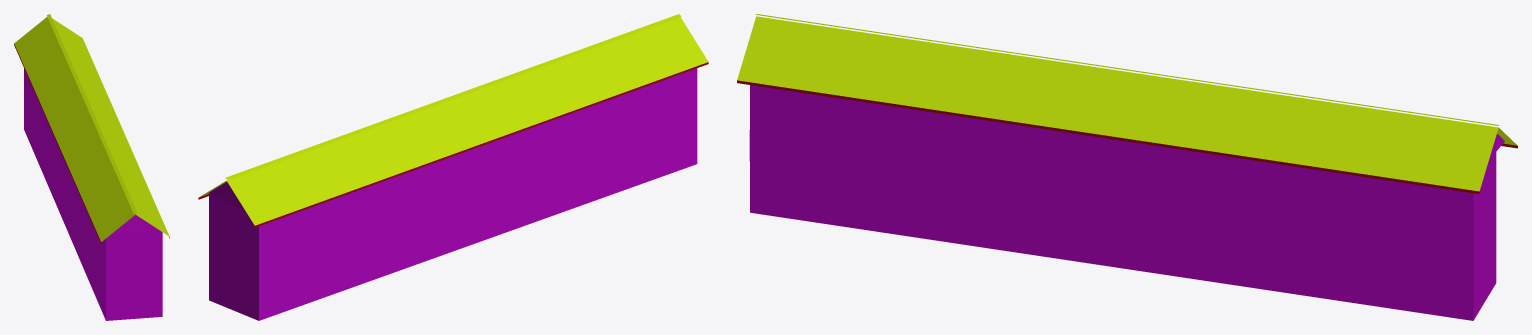
Rendered from srz_15.glb.
3 renders of one model, left to right at view 1: azimuth 30°, elevation 25°; view 2: azimuth 150°, elevation 25°; view 3: azimuth 270°, elevation 25°, orthographic. The views are drawn at different scales.
Visible parts, largest first — view 1: srz_15; view 2: srz_15; view 3: srz_15.
Part boxes in pixels (x1,y1,x2,y2): srz_15: (14,14,169,320); srz_15: (198,14,708,320); srz_15: (737,14,1517,320).
Size of the model in its own units: 14.84 by 7.89 by 31.22.
